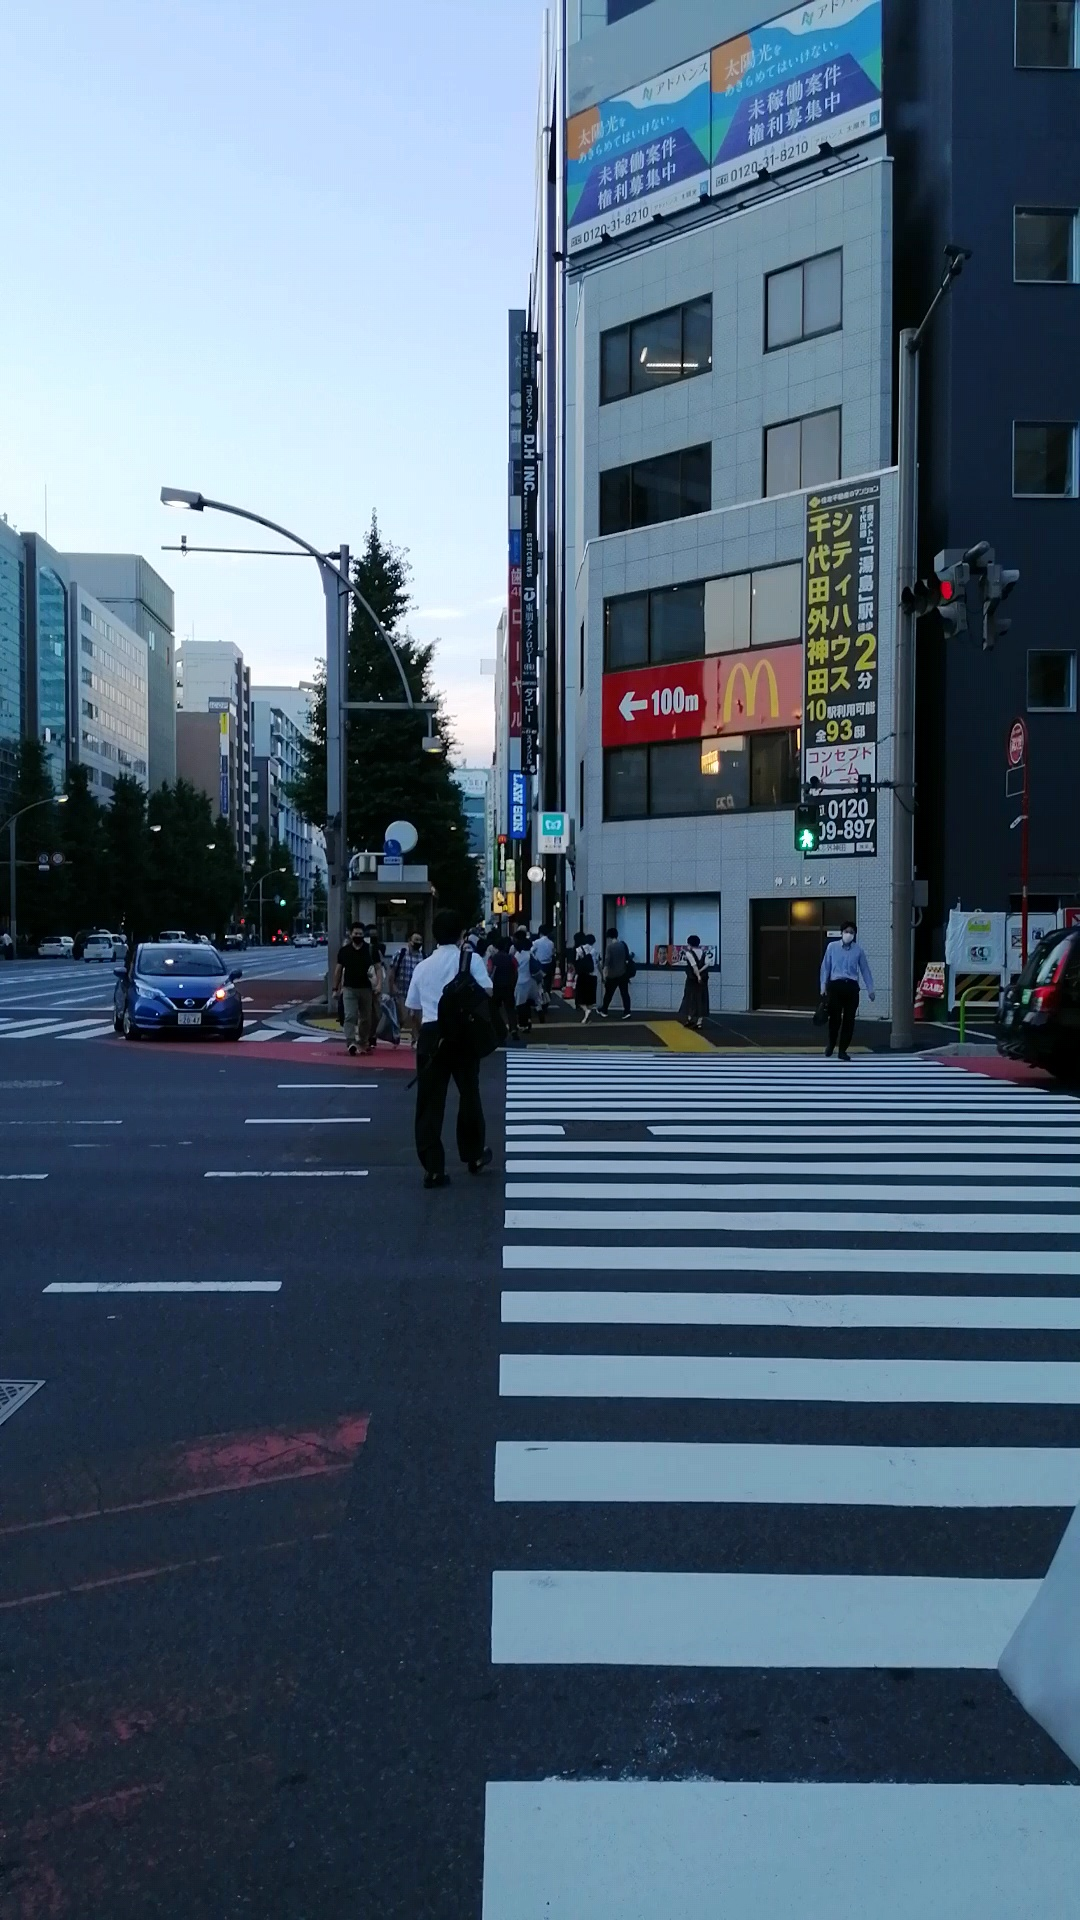green: (793, 800, 819, 852)
